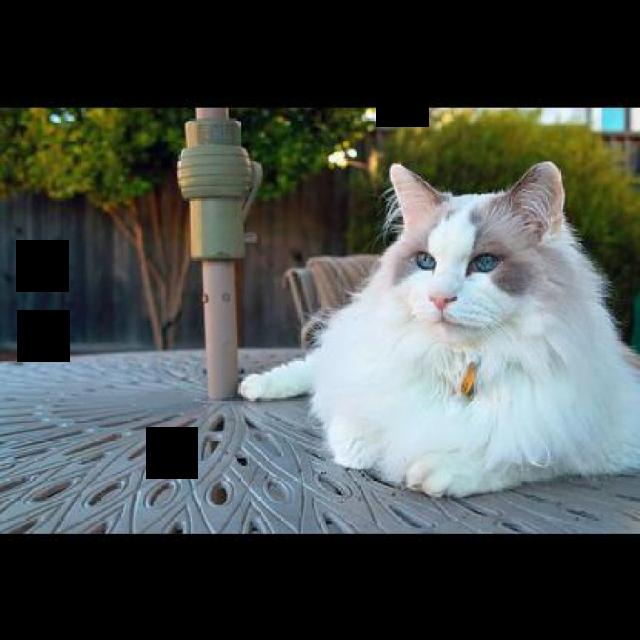unauthorized: (237, 158, 638, 498)
